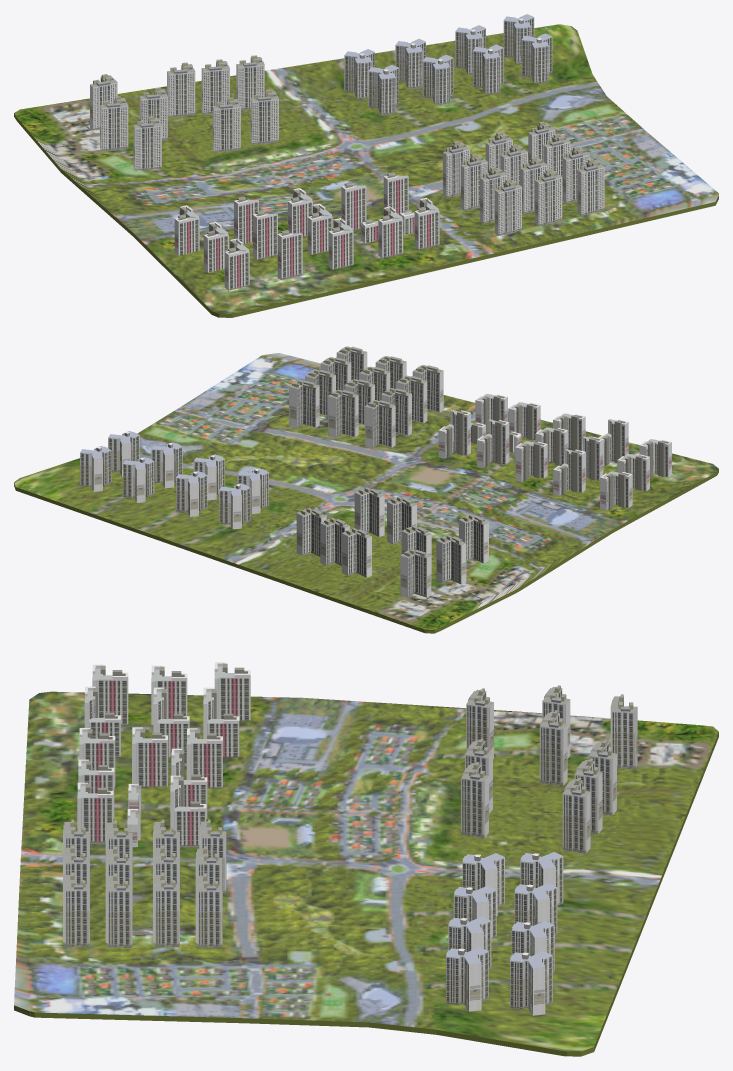
The model's file is ICJ00102_B.glb.
3 views of the same model, one above another, from view 1: azimuth 30°, elevation 25°; view 2: azimuth 150°, elevation 25°; view 3: azimuth 270°, elevation 25° (orthographic). The views are drawn at different scales.
Visible parts, largest first — view 1: MainBuilding; view 2: MainBuilding; view 3: MainBuilding.
Boxes of the visible parts, x1,y1,x2,y2 form: MainBuilding: [14, 14, 718, 317]; MainBuilding: [14, 346, 718, 633]; MainBuilding: [14, 662, 718, 1056].
Size of the model in its own units: 9.47 by 0.8109 by 7.85.
Materials: 1 (1 with a texture image).
